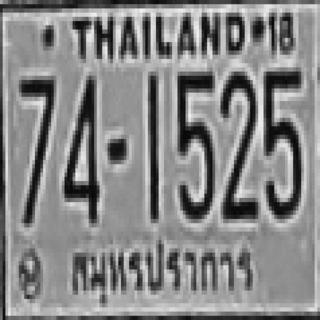N01: (147, 70, 157, 221)
N02: (220, 70, 256, 217)
N04: (62, 72, 97, 219)
N05: (175, 67, 212, 219), (262, 65, 300, 213)
N07: (17, 74, 55, 221)
P57: (66, 233, 259, 310)
